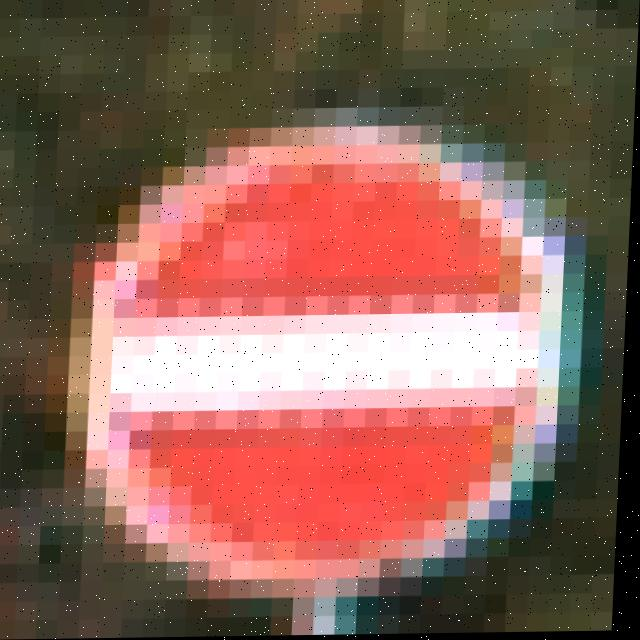road_rough: (42, 99, 580, 555)
